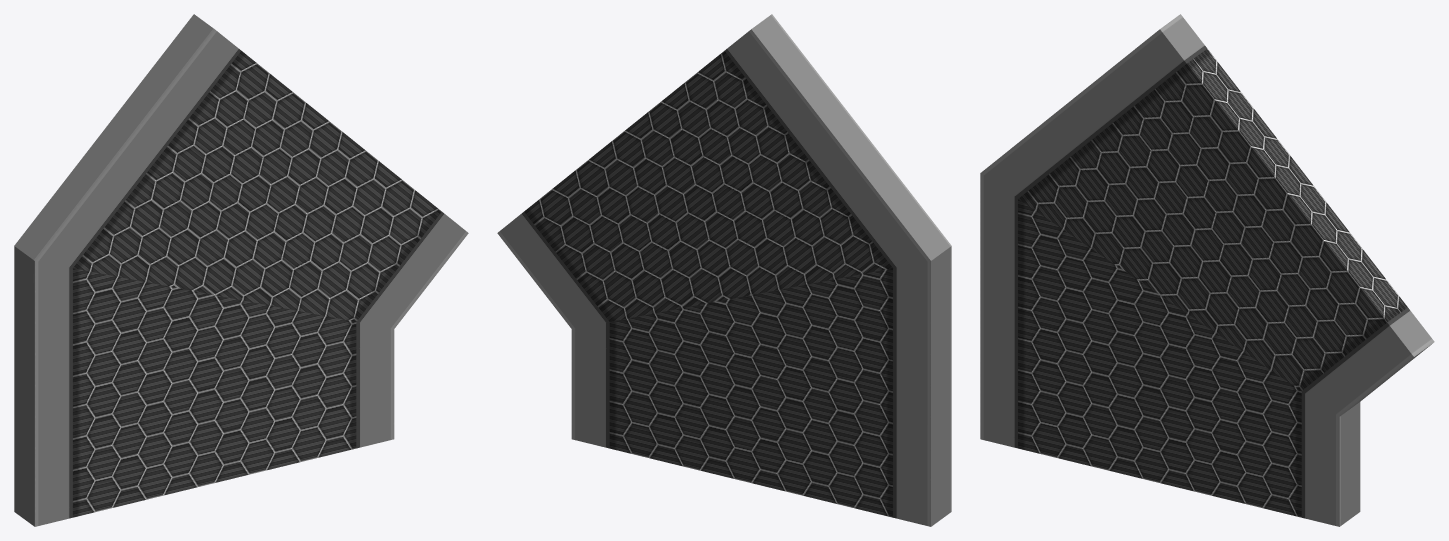
3 renders of one model, left to right at view 1: azimuth 30°, elevation 25°; view 2: azimuth 150°, elevation 25°; view 3: azimuth 330°, elevation 25°, orthographic.
Parts seen in each view (by area): view 1: Walkway_45_Right; view 2: Walkway_45_Right; view 3: Walkway_45_Right.
Part boxes in pixels (x1=…): Walkway_45_Right: x1=14, y1=14, x2=468, y2=526; Walkway_45_Right: x1=497, y1=14, x2=951, y2=526; Walkway_45_Right: x1=980, y1=14, x2=1434, y2=526.
Size of the model in its own units: 1840 by 1840 by 152.
